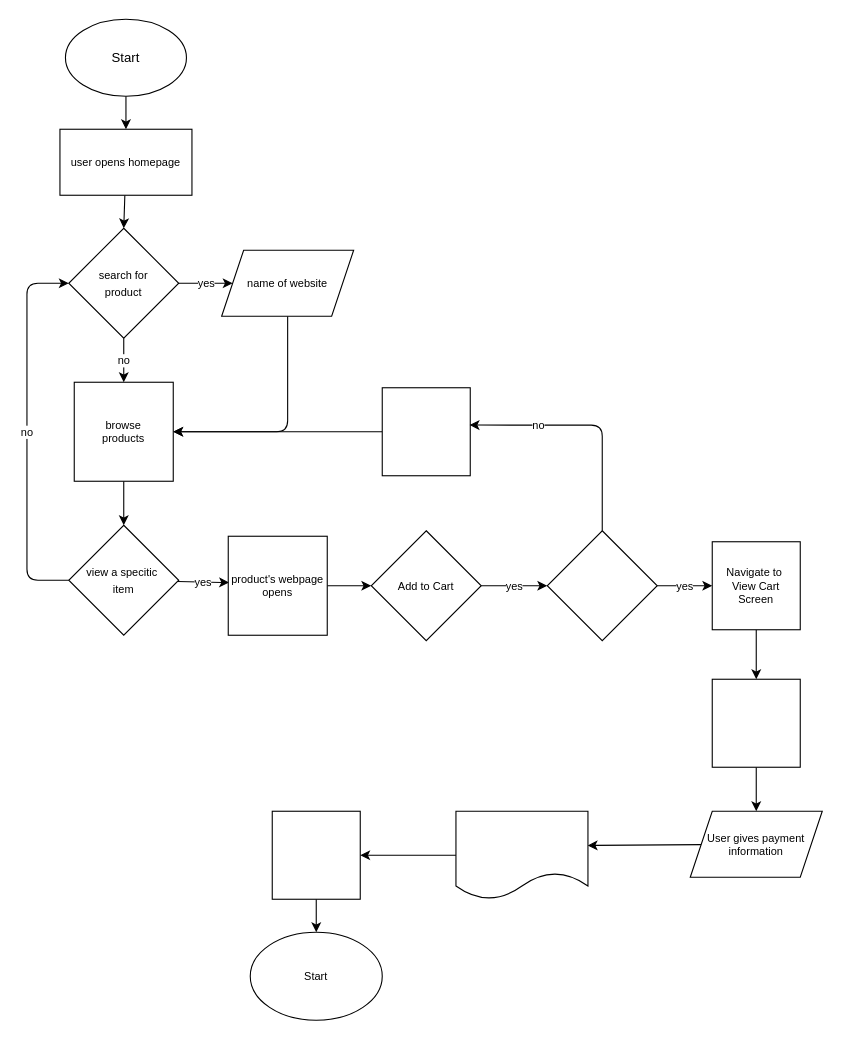
Image size: 842x1040. Some labels were removed from this diagram. Here are the shapes that lost their labels. From the top down, the centre of each, then its label:
At (x=425, y=431): "user leaves webpage".
At (x=601, y=585): "Confirm".
At (x=755, y=722): "View Payment Screen".
At (x=315, y=854): "User leaves website".
At (x=521, y=854): "Email and Order Confirmation Screen".
